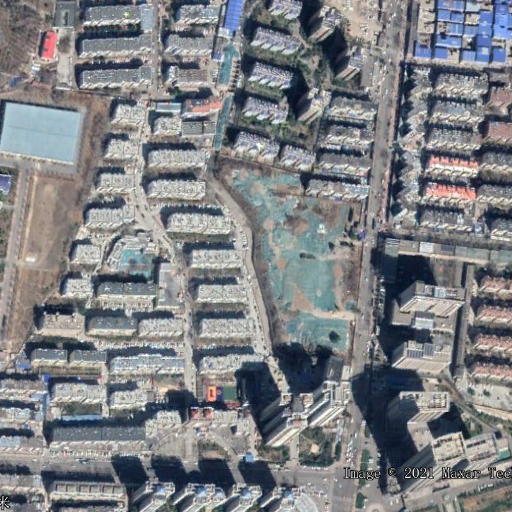cw: (217, 157, 360, 357)
